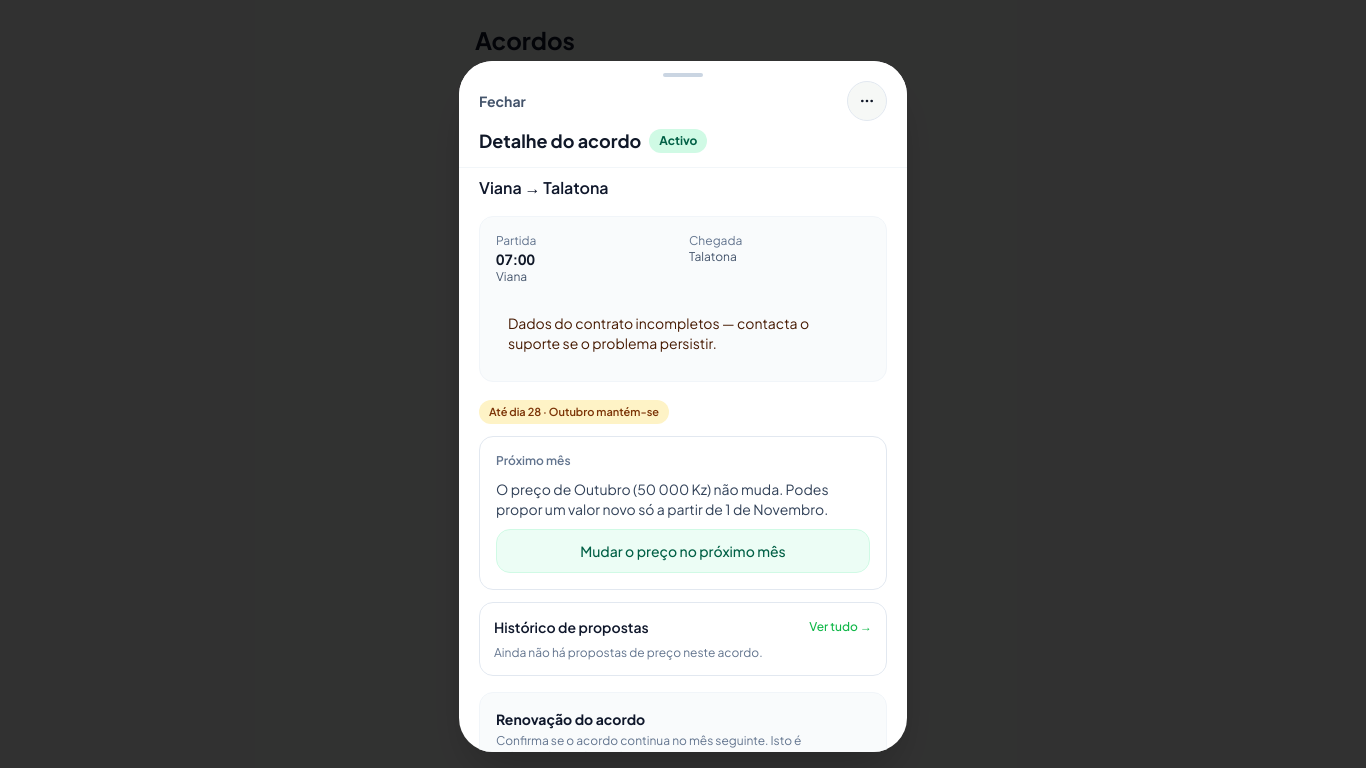
Test: MyAgreements — FAIL 1 drag sheet detalhe acordo › com scrollTop 0, arrastar o handle fecha o sheet
The image size is (1366, 768).
Press the mouse on the element with test id "sheet-drag-handle" at (683, 75), box [663,73,703,77]
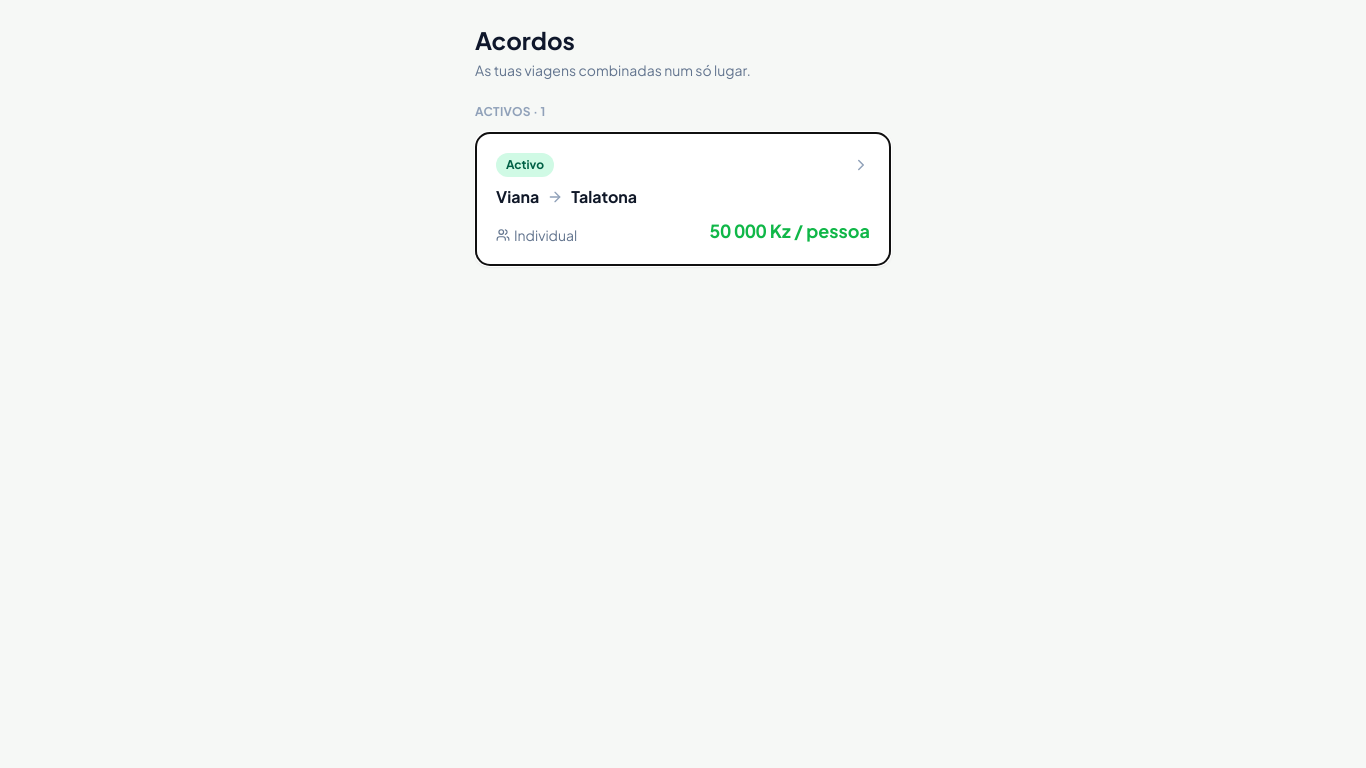
expect the heading "Detalhe do acordo" is gone: met
